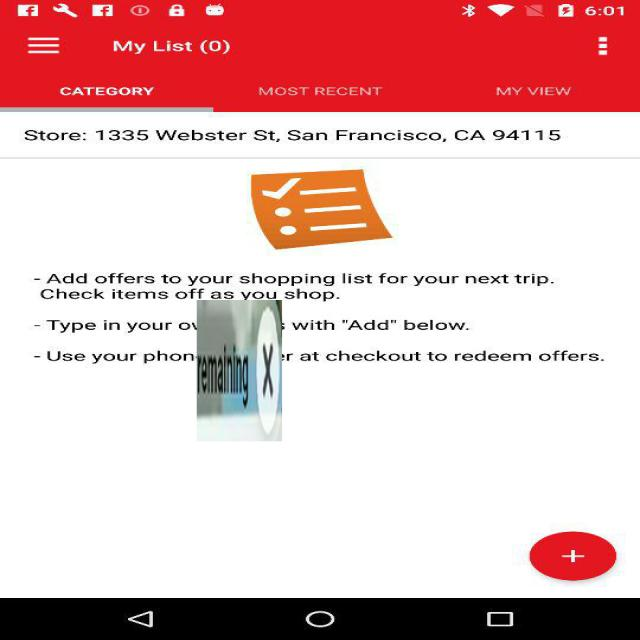misdirection: (197, 300, 282, 441)
